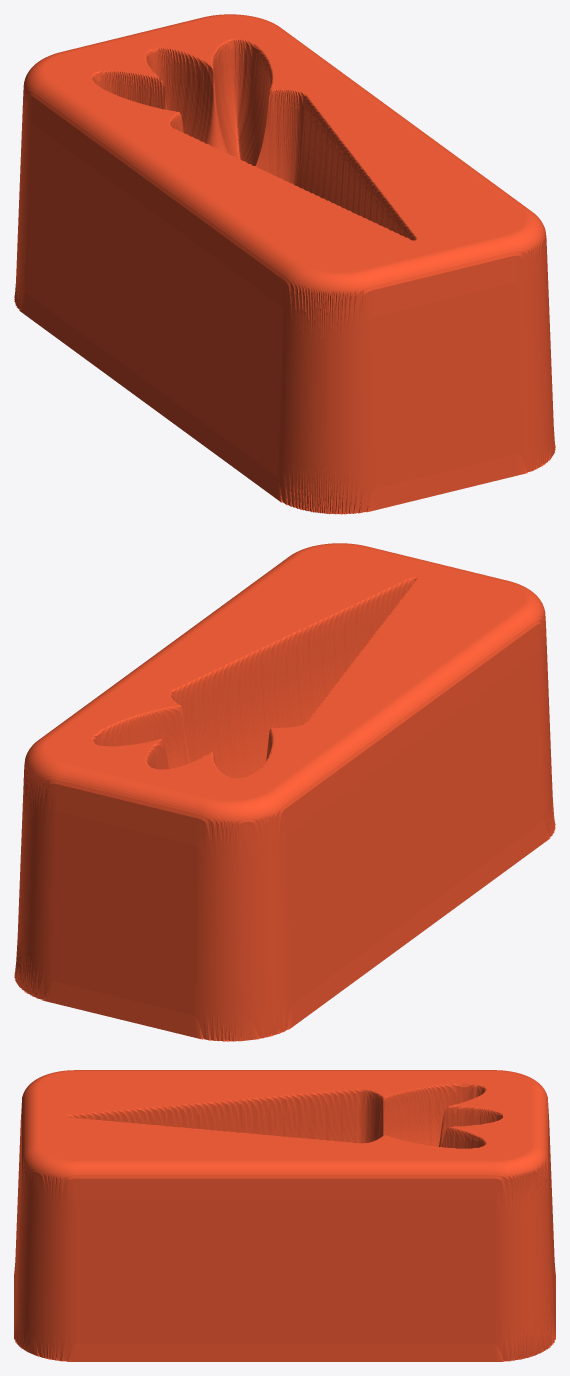
The model's file is mold.glb.
3 renders of one model, top to bottom at view 1: azimuth 30°, elevation 25°; view 2: azimuth 150°, elevation 25°; view 3: azimuth 270°, elevation 25°, orthographic. The views are drawn at different scales.
Parts seen in each view (by area): view 1: geometry_0; view 2: geometry_0; view 3: geometry_0.
Boxes of the visible parts, <box> form: geometry_0: <box>14,14,555,514</box>; geometry_0: <box>14,543,555,1041</box>; geometry_0: <box>14,1070,555,1361</box>.
Bounding box in the file's own units: 0.0382 × 0.031 × 0.0798.
